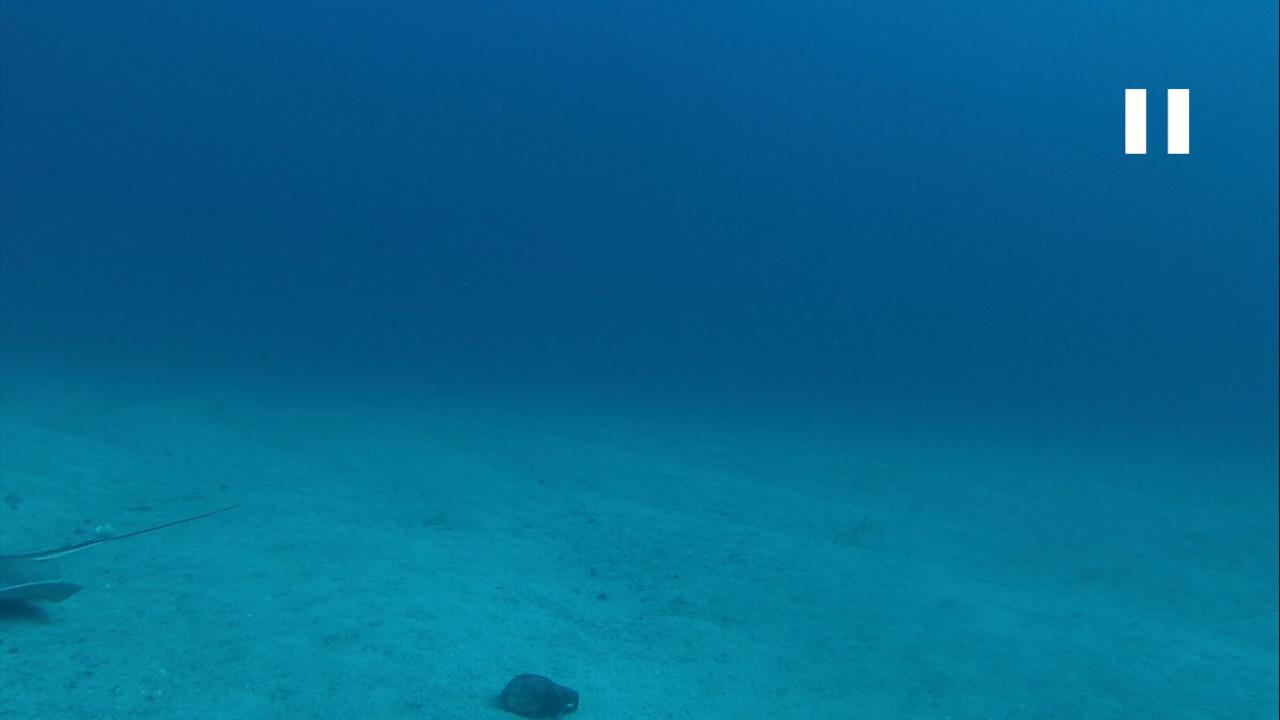myliobatis: (6, 502, 243, 617)
